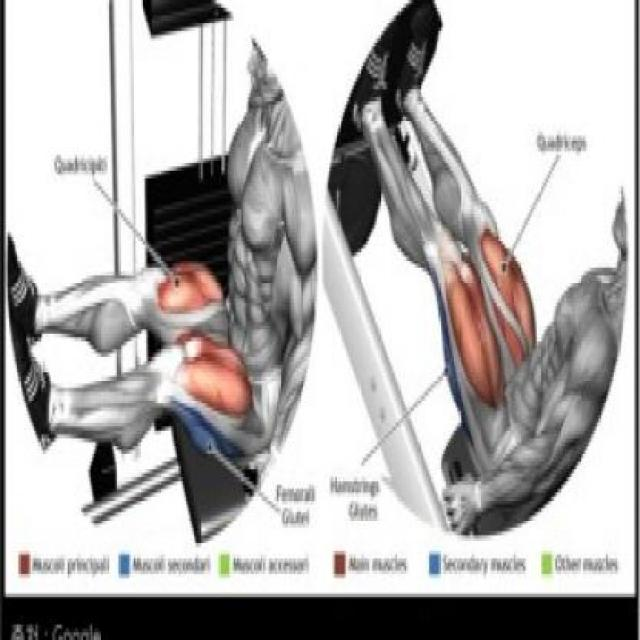leg press: (3, 0, 321, 555), (323, 0, 624, 538)
